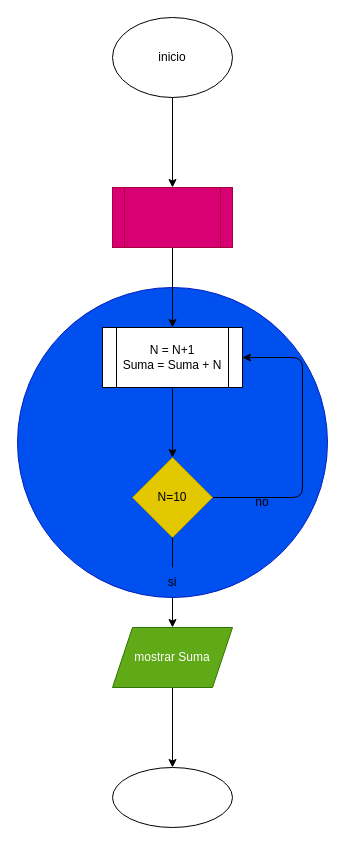
Image size: 345x845. Some labels were removed from this diagram. Here are the shapes that lost their labels. From the top down, the centre of each, then its label:
At point (172, 217): "declaramos variables N = 0 Suma = 0".
At point (172, 797): "fin".
